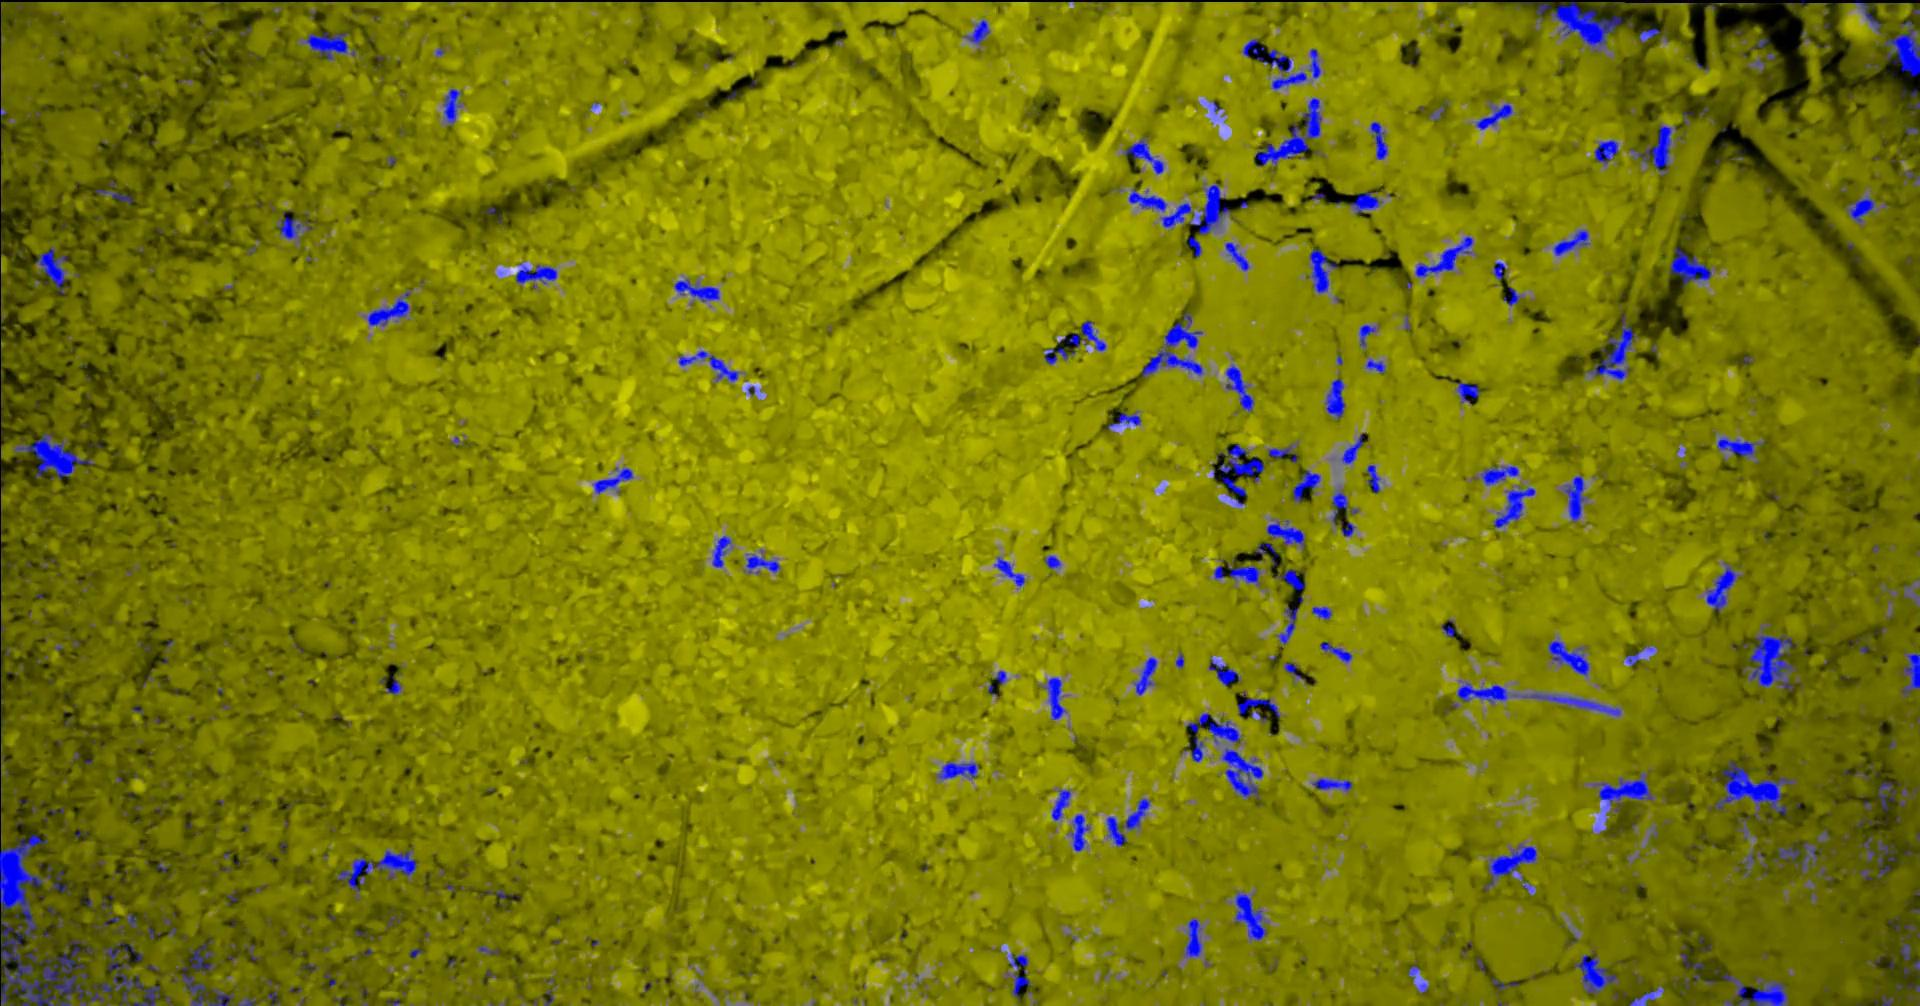ant: (1589, 314, 1639, 380), (1244, 38, 1308, 89), (1222, 445, 1266, 506), (1187, 713, 1242, 761), (1484, 843, 1538, 890), (1630, 124, 1677, 175), (1592, 774, 1655, 812), (1417, 236, 1474, 277), (1107, 798, 1152, 846), (681, 351, 740, 381), (1575, 954, 1620, 993), (1775, 840, 1827, 873), (1495, 486, 1537, 527), (1707, 561, 1741, 611), (1671, 246, 1713, 285), (370, 288, 411, 326), (1236, 890, 1269, 939), (1124, 136, 1164, 174), (1860, 836, 1898, 876), (305, 30, 357, 60), (37, 246, 69, 293), (1549, 640, 1591, 676), (1062, 320, 1107, 351), (1225, 365, 1255, 412), (1309, 248, 1338, 293), (1333, 489, 1360, 536), (1238, 690, 1281, 718), (278, 211, 317, 241), (1564, 475, 1590, 521), (1477, 100, 1514, 130), (1008, 954, 1032, 998), (676, 278, 721, 301), (517, 263, 557, 288), (1269, 520, 1305, 547), (1719, 437, 1766, 459), (594, 467, 634, 493), (94, 894, 119, 934), (1554, 229, 1591, 255), (1043, 677, 1065, 719), (1474, 465, 1520, 485), (996, 556, 1026, 587), (1900, 652, 1920, 697), (1294, 469, 1322, 502), (97, 179, 135, 203), (1855, 0, 1883, 32), (1210, 658, 1242, 686), (1326, 379, 1347, 419), (1277, 606, 1299, 647), (1130, 188, 1168, 211), (1137, 655, 1158, 695), (747, 549, 781, 573), (1069, 813, 1091, 851), (1901, 934, 1920, 977), (937, 761, 982, 779), (1350, 191, 1384, 213), (1848, 196, 1877, 222), (1229, 563, 1262, 586), (1225, 243, 1251, 271), (444, 88, 463, 124), (1342, 433, 1365, 464), (1371, 121, 1389, 159), (1630, 986, 1666, 1005), (1276, 568, 1307, 589), (1109, 412, 1143, 431), (1595, 138, 1620, 164), (1321, 641, 1352, 662), (966, 19, 990, 46), (1879, 781, 1901, 810), (1186, 918, 1203, 956), (1738, 851, 1764, 875), (1681, 944, 1705, 969), (714, 535, 733, 567), (1053, 789, 1072, 821), (483, 889, 521, 904), (1313, 777, 1354, 791), (1, 743, 10, 807), (1046, 347, 1077, 365), (1269, 445, 1299, 462), (1459, 381, 1481, 404), (1257, 542, 1279, 565), (53, 869, 72, 893), (1641, 27, 1669, 42), (1900, 786, 1920, 807), (1368, 464, 1382, 492), (1890, 917, 1917, 931), (1430, 99, 1449, 119), (1503, 286, 1523, 306), (1, 616, 11, 654), (1905, 582, 1920, 606), (1360, 324, 1377, 345), (1537, 0, 1552, 23), (1285, 662, 1304, 680), (1737, 815, 1751, 840), (1310, 48, 1322, 77), (387, 673, 403, 695), (1443, 619, 1460, 636), (1901, 169, 1920, 185), (1493, 978, 1520, 989), (245, 942, 262, 960), (1189, 236, 1203, 257), (543, 984, 557, 1005), (1818, 865, 1835, 882), (1495, 260, 1509, 279), (1368, 358, 1387, 372), (389, 907, 403, 926), (479, 944, 502, 955), (1313, 606, 1333, 619), (1627, 650, 1643, 666), (302, 962, 319, 977), (1685, 973, 1702, 988), (1877, 995, 1901, 1005), (1853, 868, 1873, 879), (1897, 983, 1920, 992), (1046, 555, 1062, 568), (996, 669, 1008, 683), (269, 991, 282, 1005), (127, 912, 138, 927), (1215, 565, 1225, 579)
